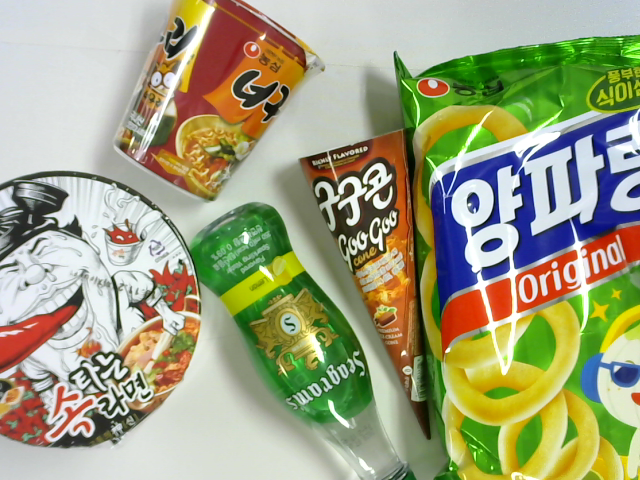GooGoo_Cone_CVS: (300, 133, 445, 443)
HeJangsock: (1, 171, 201, 446)
Oninon_Ring: (393, 36, 640, 480)
Raccoon: (113, 1, 330, 203)
Seagram_Lemon_Carbonated_Water: (185, 202, 414, 480)
